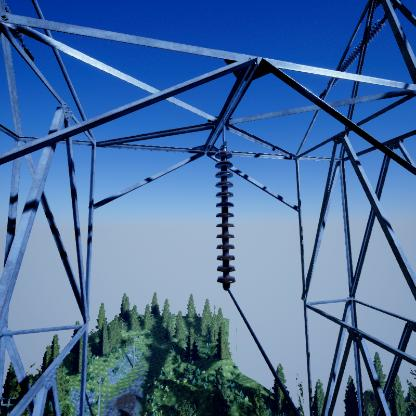insulator: (214, 149, 237, 293)
